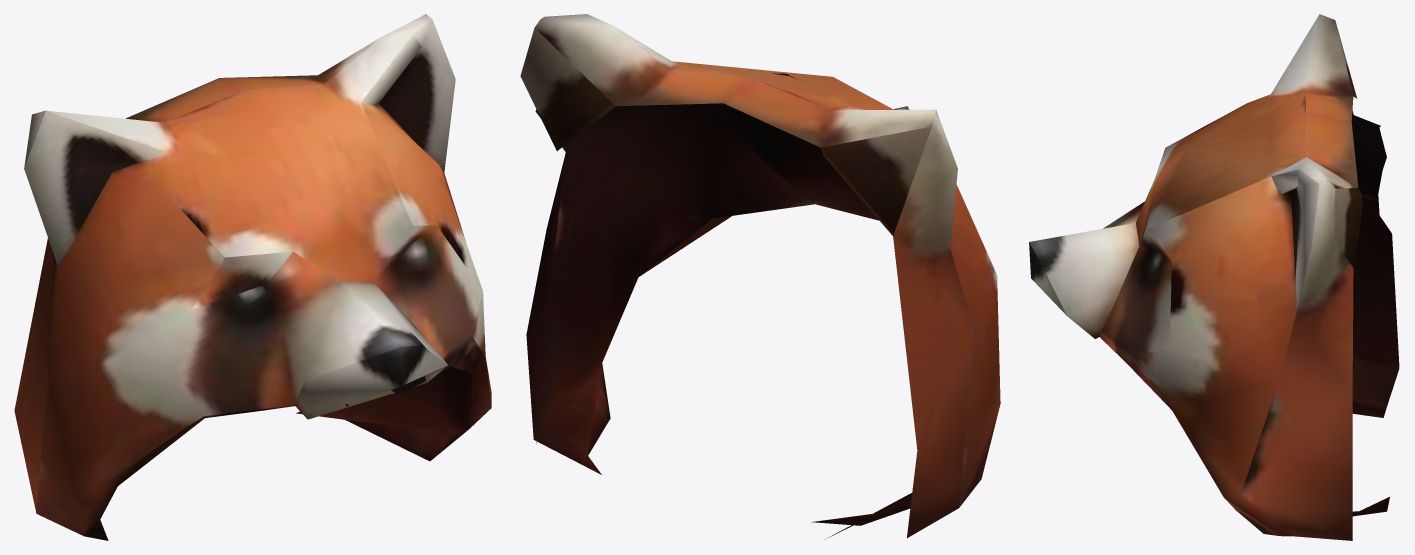
Rendered from red-panda.glb.
3 views of the same model, side by side, from view 1: azimuth 30°, elevation 25°; view 2: azimuth 150°, elevation 25°; view 3: azimuth 270°, elevation 25° (orthographic). The views are drawn at different scales.
Visible parts, largest first — view 1: geometry_0; view 2: geometry_0; view 3: geometry_0.
Part boxes in pixels (x1,y1,x2,y2): geometry_0: (14,14,491,540); geometry_0: (520,14,1000,539); geometry_0: (1029,14,1399,540).
Size of the model in its own units: 0.4928 by 0.4631 by 0.4189.
1 material, 1 textured.
